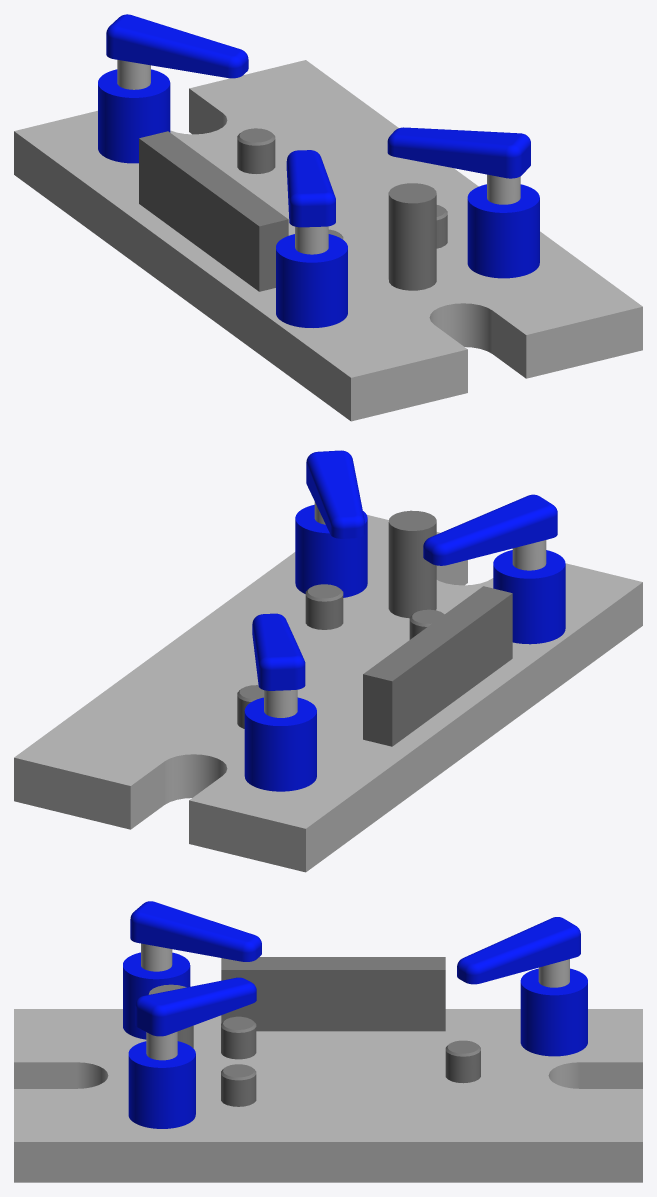
3 views of the same model, one above another, from view 1: azimuth 30°, elevation 25°; view 2: azimuth 150°, elevation 25°; view 3: azimuth 270°, elevation 25° (orthographic). The views are drawn at different scales.
Parts seen in each view (by area): view 1: sem_peca; view 2: sem_peca; view 3: sem_peca.
Part boxes in pixels (x1,y1,x2,y2): sem_peca: [14, 14, 642, 421]; sem_peca: [14, 450, 642, 872]; sem_peca: [14, 901, 642, 1182].
Bounding box in the file's own units: 7 × 3.88 × 14.
